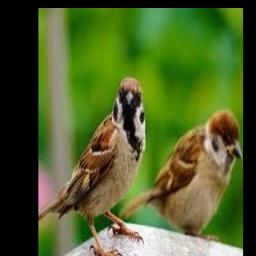Sparrow: (38, 77, 145, 256), (120, 110, 242, 241)
